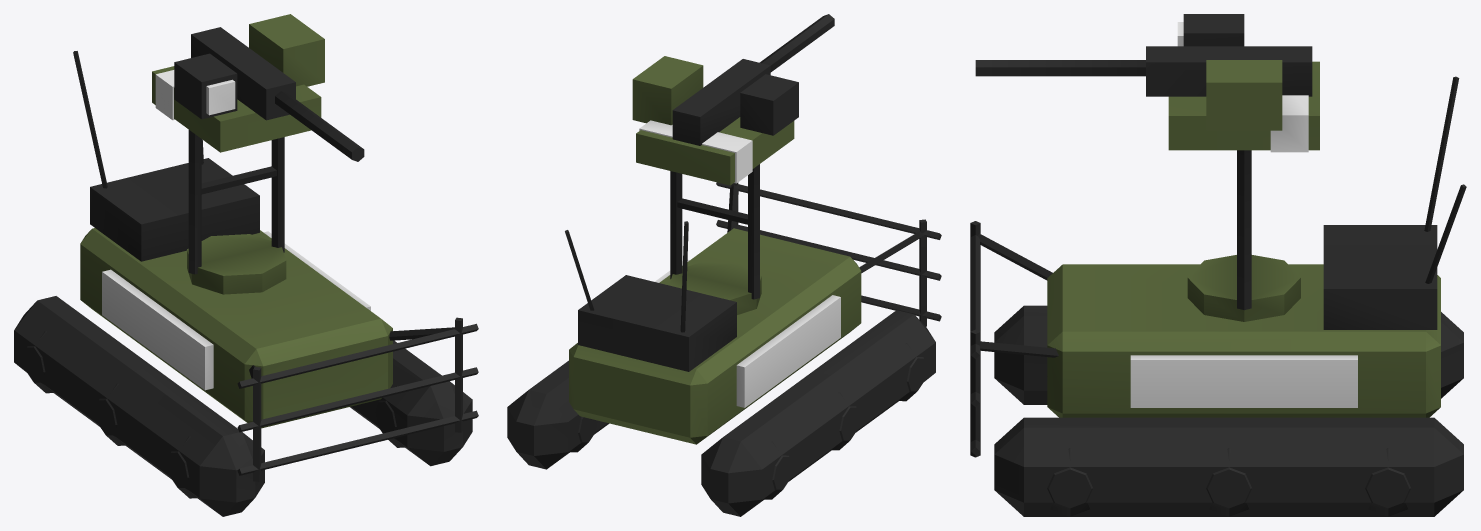
3 renders of one model, left to right at view 1: azimuth 30°, elevation 25°; view 2: azimuth 150°, elevation 25°; view 3: azimuth 270°, elevation 25°, orthographic. The views are drawn at different scales.
Visible parts, largest first — view 1: ua-tw-12-7, turret; view 2: ua-tw-12-7, turret; view 3: ua-tw-12-7, turret.
Boxes of the visible parts, x1,y1,x2,y2 form: ua-tw-12-7: (14, 51, 478, 516); turret: (152, 14, 364, 294); ua-tw-12-7: (507, 182, 941, 516); turret: (632, 14, 834, 314); ua-tw-12-7: (970, 76, 1466, 516); turret: (975, 14, 1319, 321).
Bounding box in the file's own units: 0.464 × 0.6 × 0.6558.
